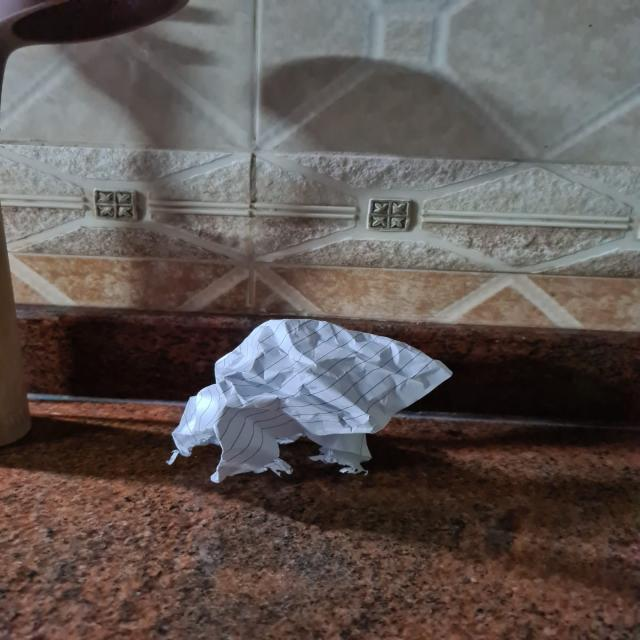Paper: (170, 317, 453, 473)
